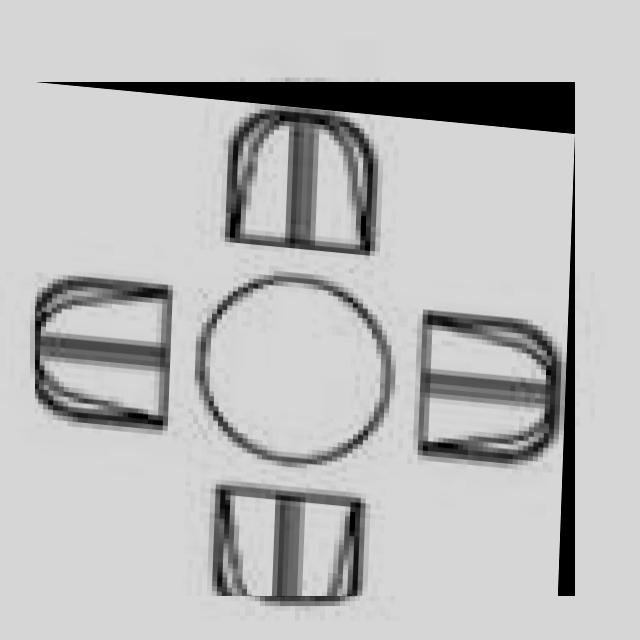table: (35, 83, 575, 596)
